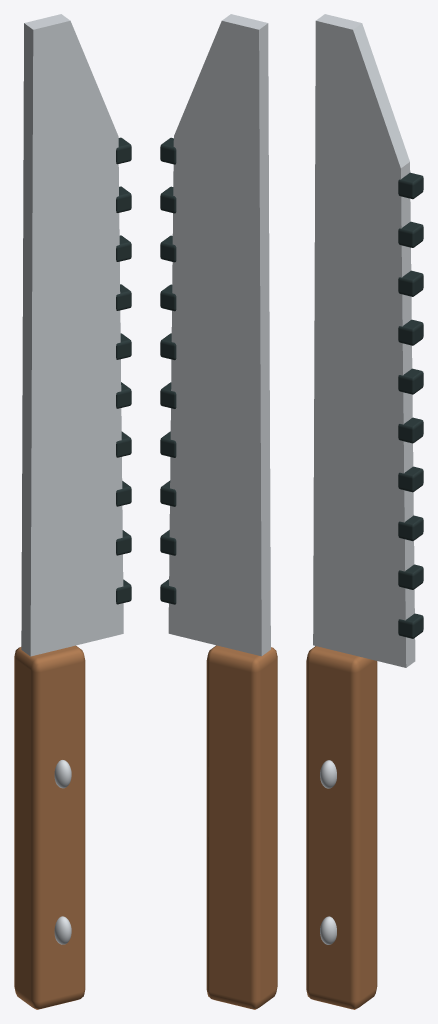
File: wp-couteau-a-pain.glb
The picture shows the model from 3 angles, left to right: view 1: azimuth 30°, elevation 25°; view 2: azimuth 150°, elevation 25°; view 3: azimuth 330°, elevation 25°; orthographic projection.
Visible parts, largest first — view 1: wp-couteau-a-pain; view 2: wp-couteau-a-pain; view 3: wp-couteau-a-pain.
Boxes of the visible parts, x1,y1,x2,y2 form: wp-couteau-a-pain: (14,14,131,1009); wp-couteau-a-pain: (160,14,277,1009); wp-couteau-a-pain: (306,14,423,1009).
Size of the model in its own units: 0.04 by 0.36 by 0.02.
